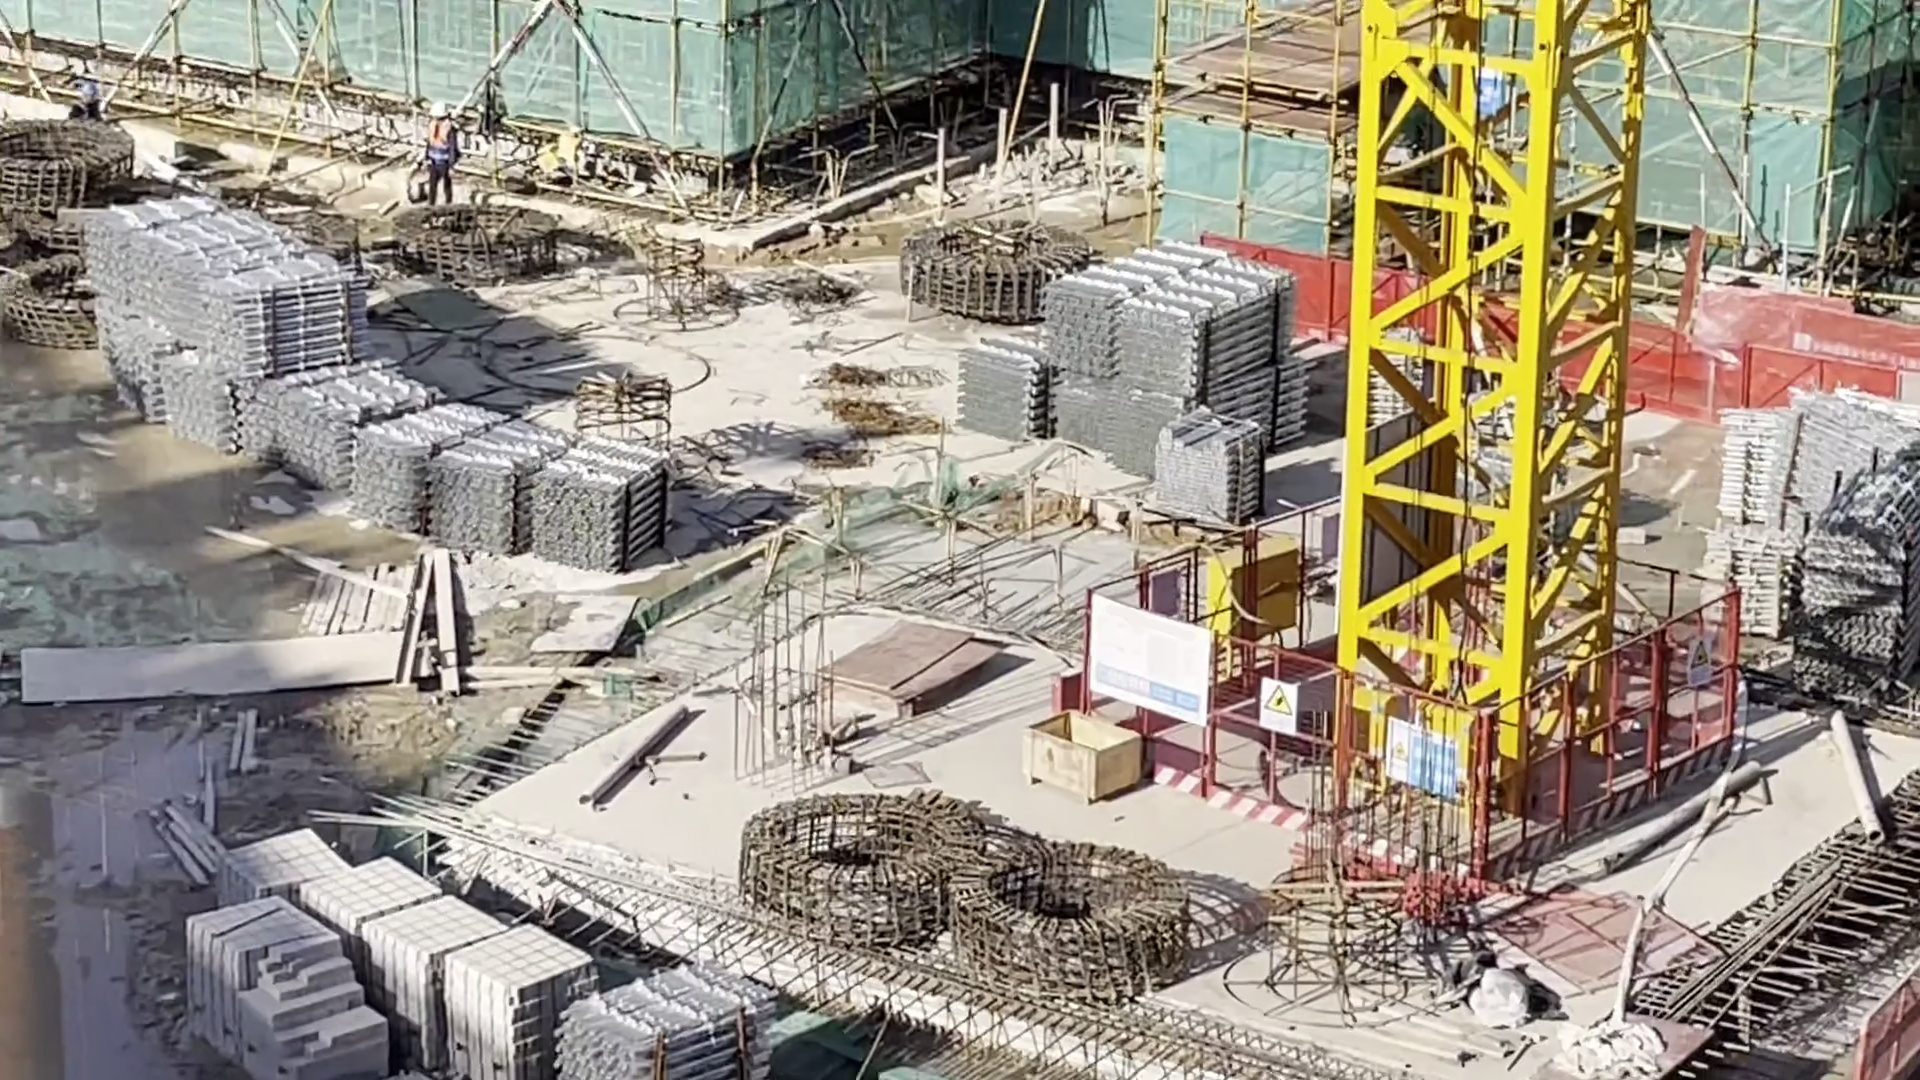board: (836, 626, 982, 711)
brick: (231, 837, 555, 1070), (193, 906, 396, 1080)
ebox: (1204, 538, 1297, 643)
fence: (1643, 287, 1920, 401), (1236, 241, 1351, 330)
helmet: (429, 103, 449, 117)
person: (417, 103, 459, 203)
scaffold: (82, 203, 366, 450), (1050, 246, 1306, 449), (365, 411, 569, 549), (1804, 491, 1919, 712), (562, 973, 776, 1080), (1781, 401, 1920, 541), (1704, 407, 1792, 624), (540, 435, 661, 580), (285, 368, 431, 476), (1155, 411, 1254, 522), (966, 322, 1046, 434)
slogan: (1383, 720, 1459, 808), (1256, 679, 1298, 735), (1682, 639, 1715, 687)
vest: (427, 119, 451, 158)
